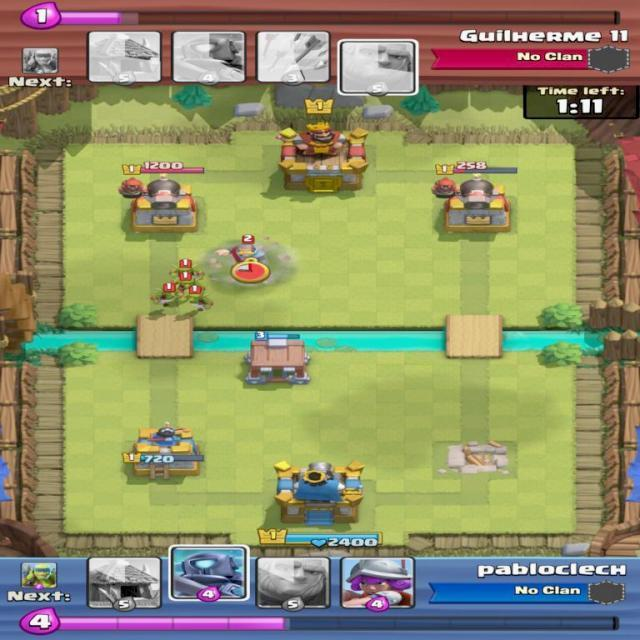ECannoneerTower: (128, 179, 202, 234), (440, 182, 514, 230)
EGoblin: (157, 282, 183, 312), (189, 286, 212, 312), (177, 259, 199, 279), (180, 277, 194, 286)
EKingTower: (278, 126, 369, 190)
EKnight: (218, 236, 268, 286)
OGoblinCage: (244, 329, 313, 388)
OwnKingTower: (271, 456, 366, 529)
OwnPrincessTower: (124, 422, 205, 477)
TowerDown: (430, 437, 517, 484)
